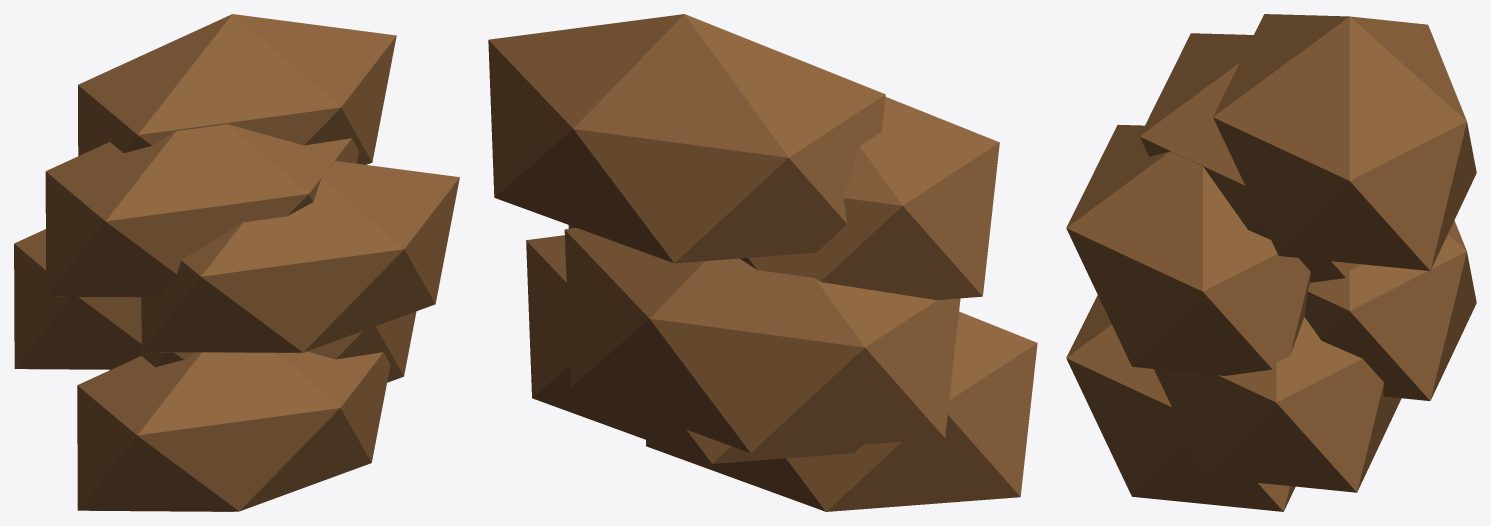
The model's file is w3d_item_hazelnuts_l.glb.
3 views of the same model, side by side, from view 1: azimuth 30°, elevation 25°; view 2: azimuth 150°, elevation 25°; view 3: azimuth 270°, elevation 25° (orthographic). The views are drawn at different scales.
Parts seen in each view (by area): view 1: item_018_hazelnuts_l; view 2: item_018_hazelnuts_l; view 3: item_018_hazelnuts_l.
Part boxes in pixels (box(x1,y1,x2,y2)): item_018_hazelnuts_l: box(14, 14, 459, 511); item_018_hazelnuts_l: box(488, 14, 1037, 511); item_018_hazelnuts_l: box(1066, 14, 1476, 511).
Bounding box in the file's own units: 0.419 × 0.457 × 0.3359.
